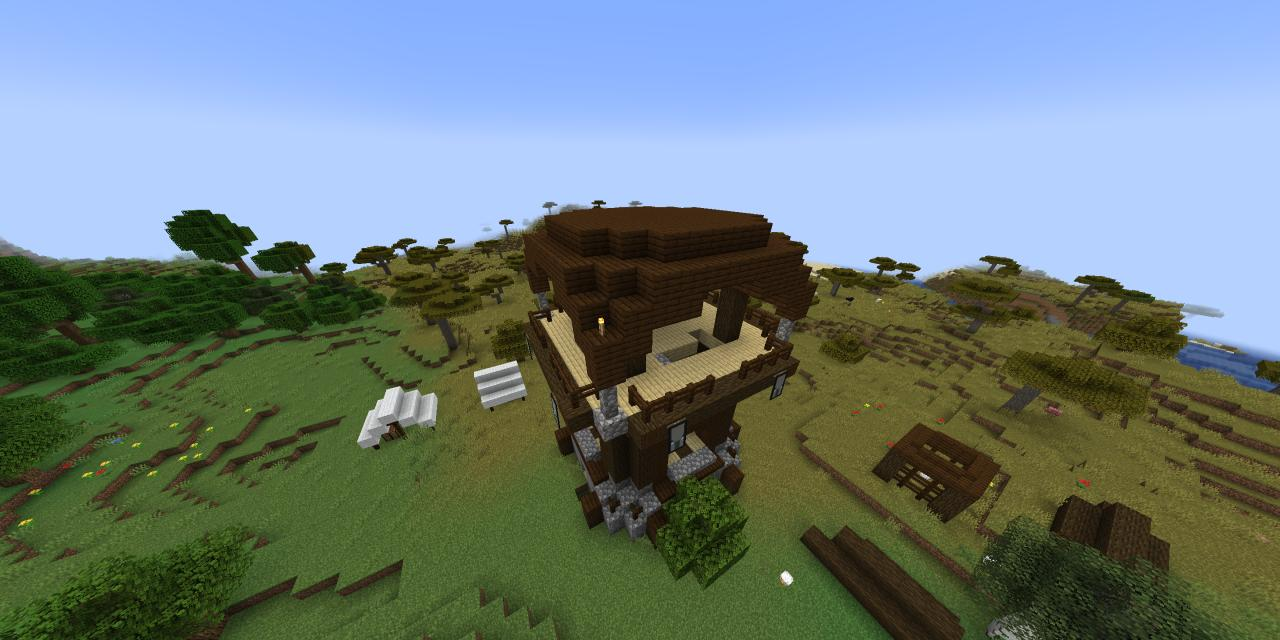pillager outpost: (515, 188, 825, 580)
